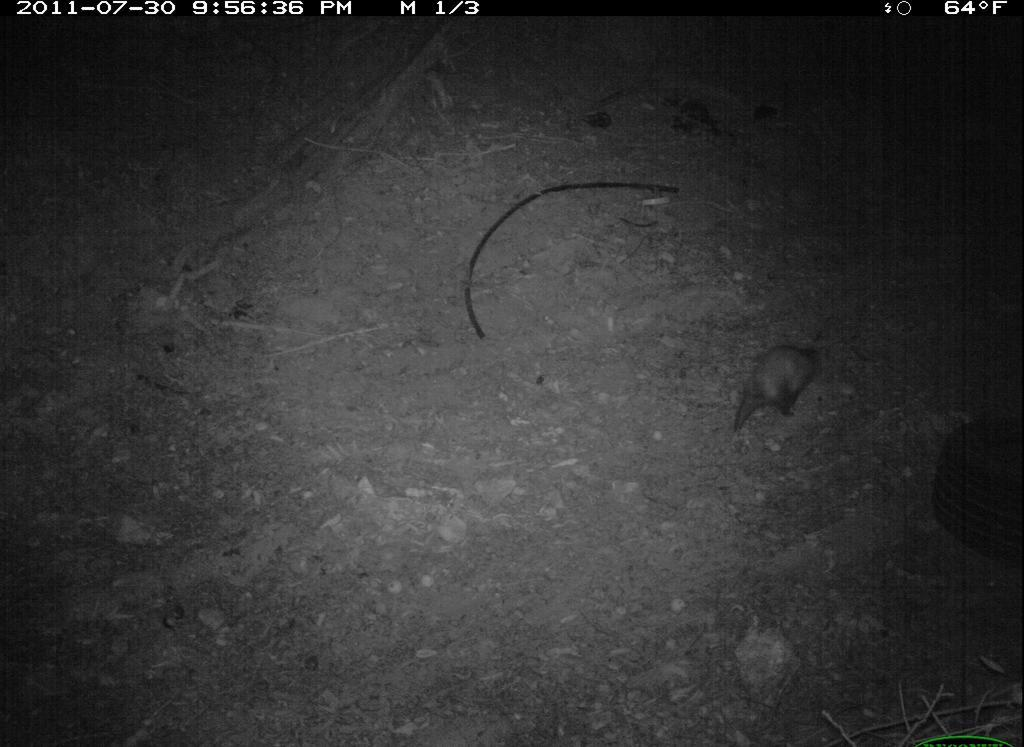opossum: (728, 338, 830, 452)
